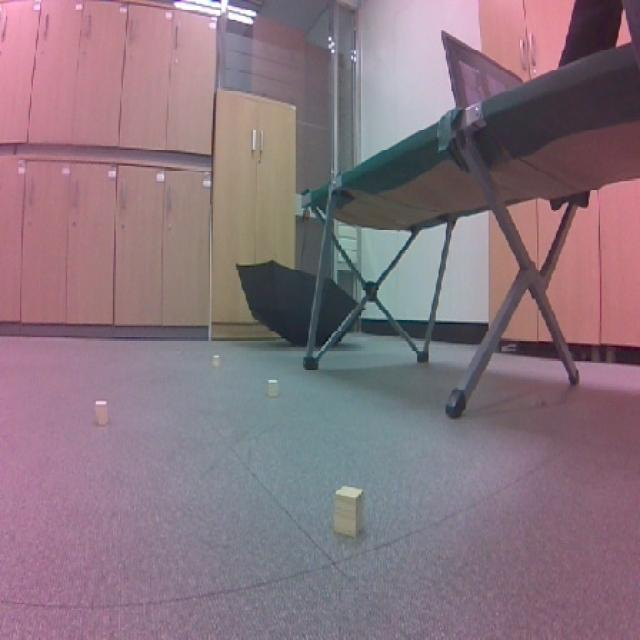obstacle: (328, 479, 371, 543)
